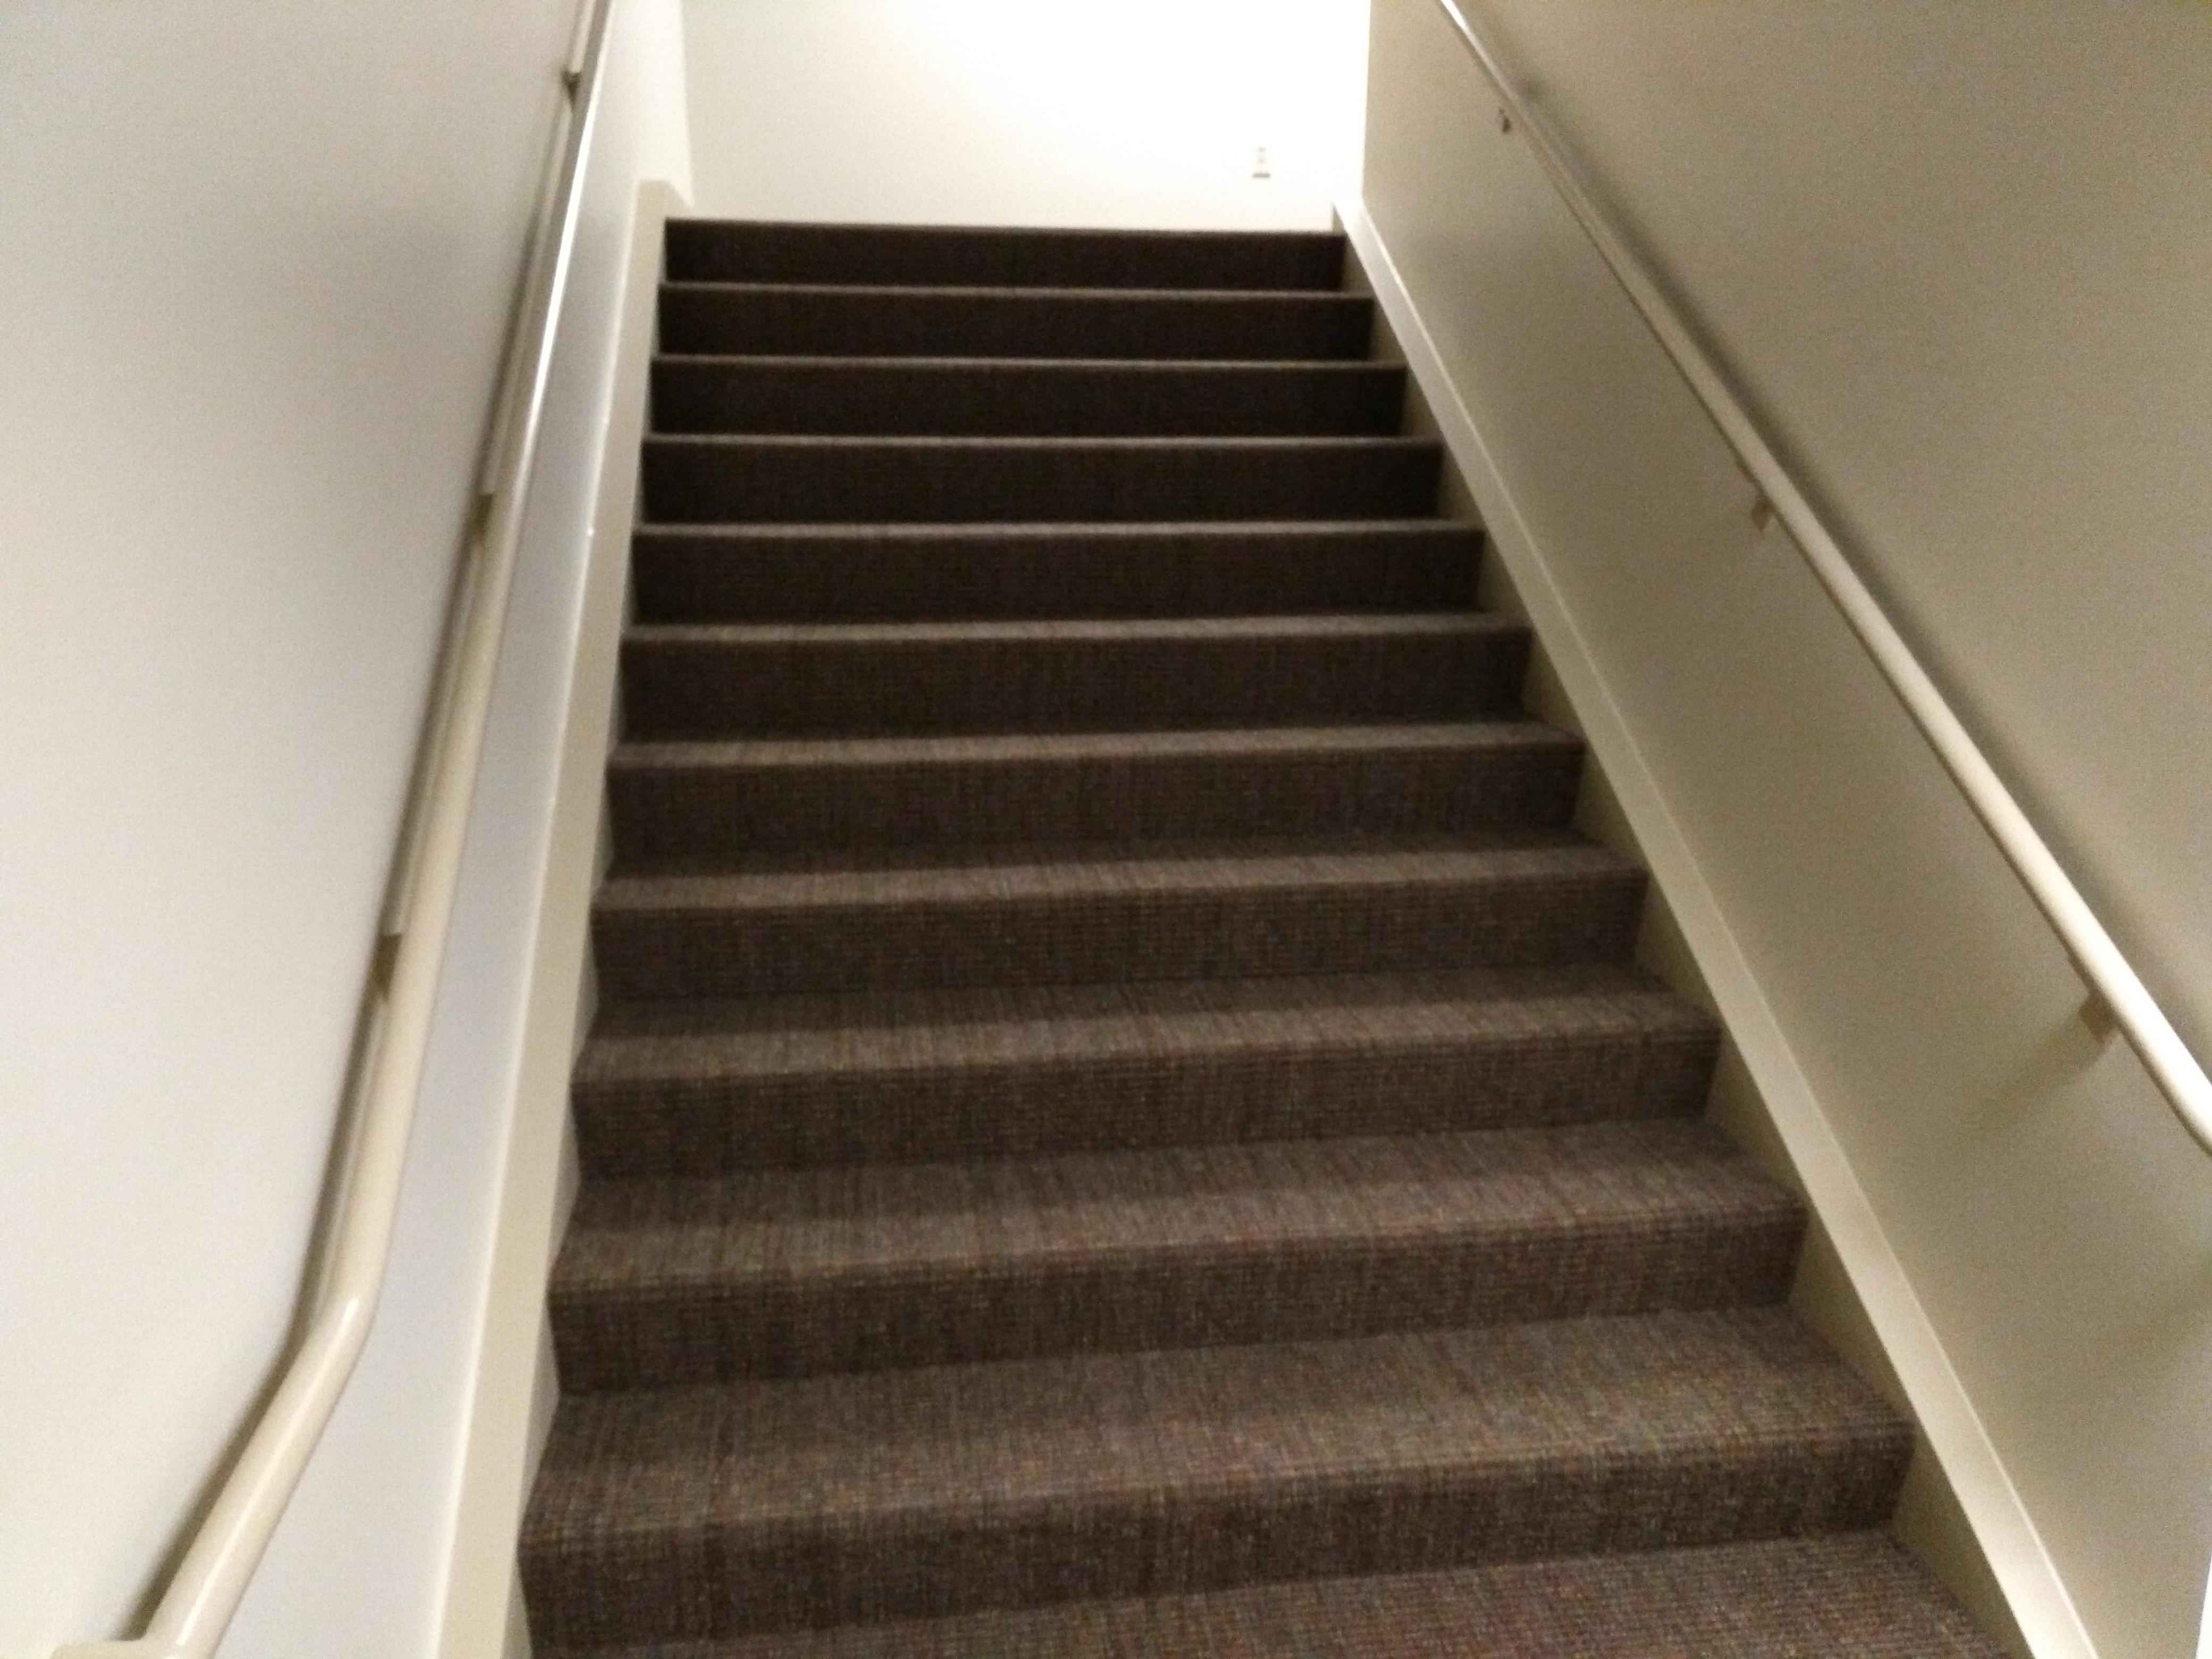stairs_up: (510, 204, 2008, 1558)
